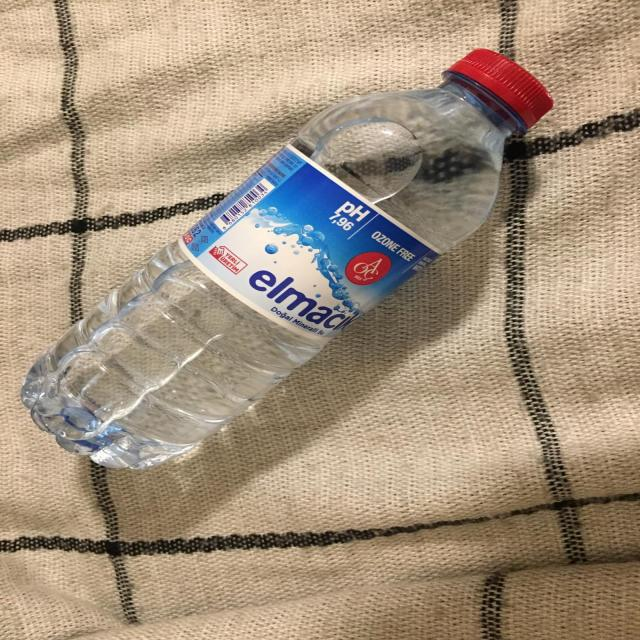bottle: (9, 34, 567, 500)
